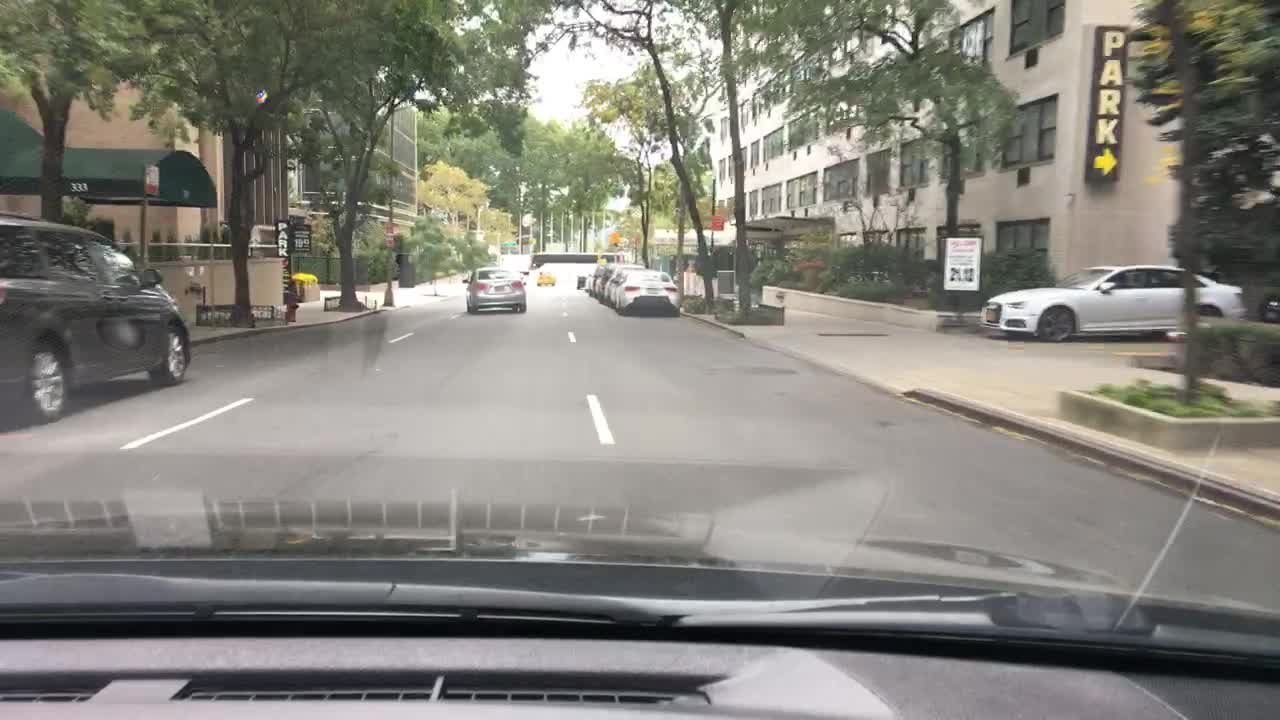car: (0, 211, 192, 420), (977, 263, 1242, 341), (606, 272, 685, 317), (459, 266, 526, 315), (599, 263, 648, 305), (1258, 283, 1279, 324), (590, 265, 617, 295), (580, 266, 599, 293), (531, 266, 555, 287)
traffic sign: (1083, 23, 1131, 183), (145, 162, 158, 196), (606, 228, 624, 250), (705, 212, 727, 228), (383, 219, 395, 245), (499, 240, 519, 249)
